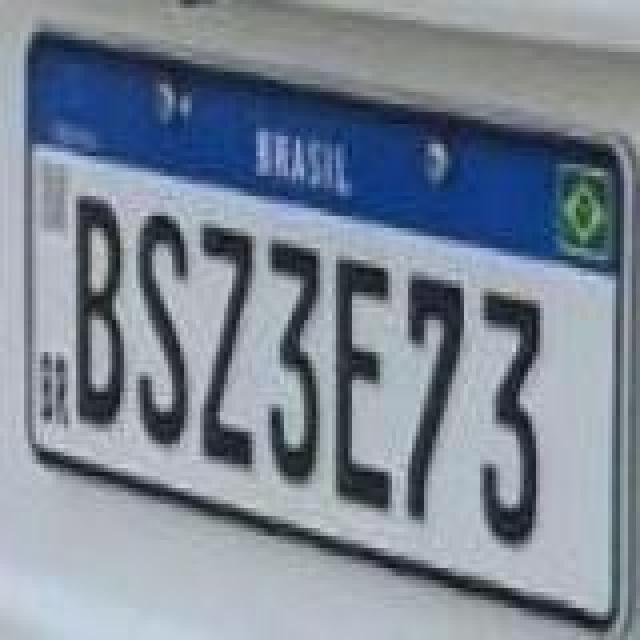3: (478, 284, 546, 548), (268, 240, 324, 488)
7: (400, 270, 464, 530)
B: (76, 192, 132, 432)
E: (332, 252, 396, 516)
S: (132, 210, 196, 446)
Z: (198, 222, 258, 474)
